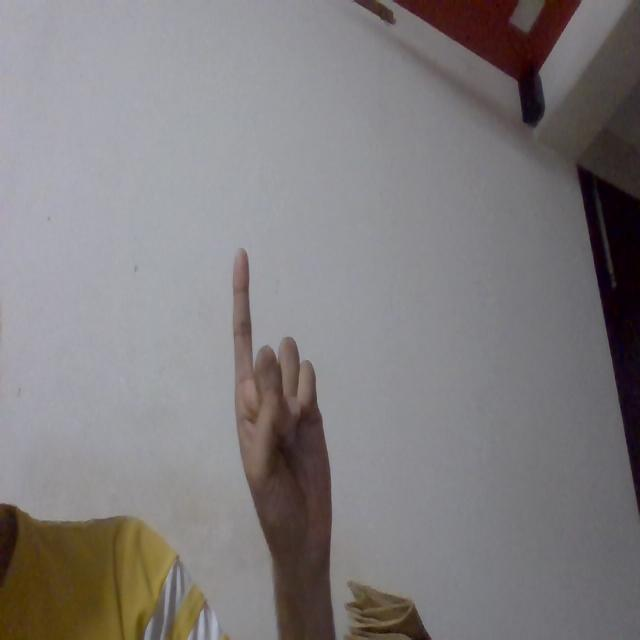Z: (190, 229, 389, 583)
